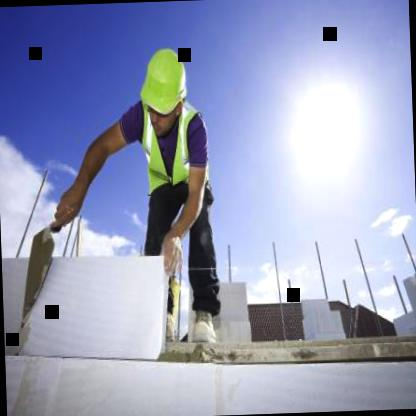helmet: (137, 36, 194, 148)
